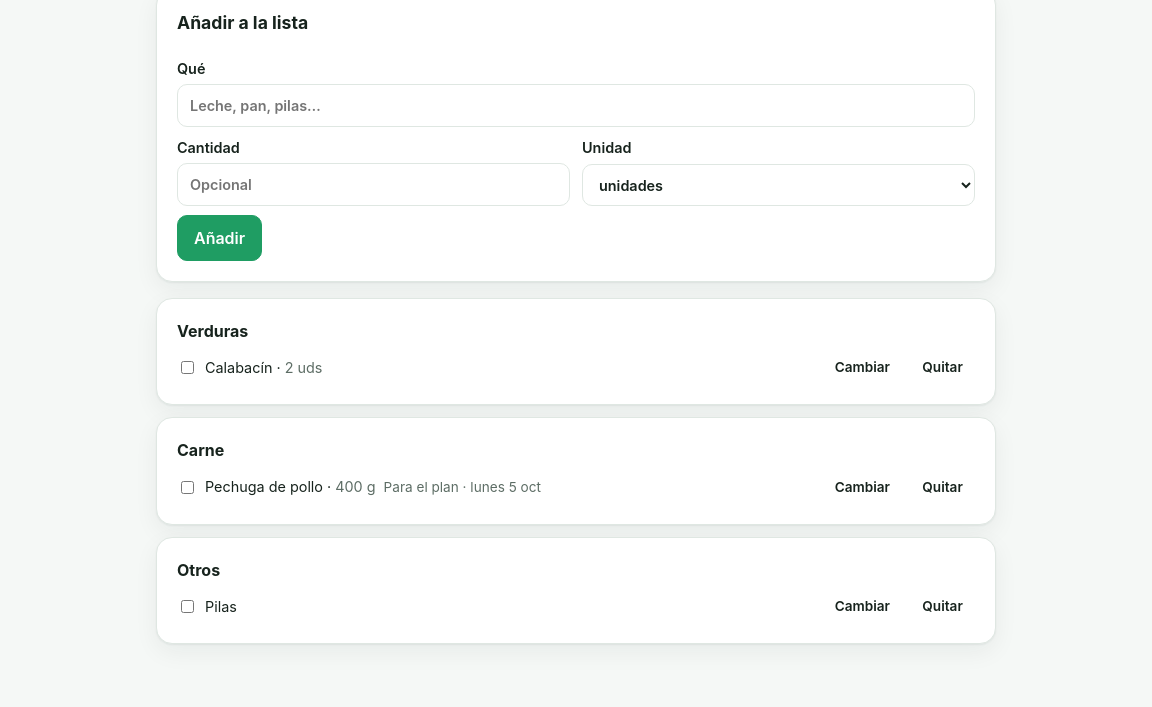
Test: shopping list › changes how much to buy
(page scrolled)
Click the button "Cambiar" in the row of "Pechuga de pollo" at coordinates (862, 487), box [822,470,902,504]
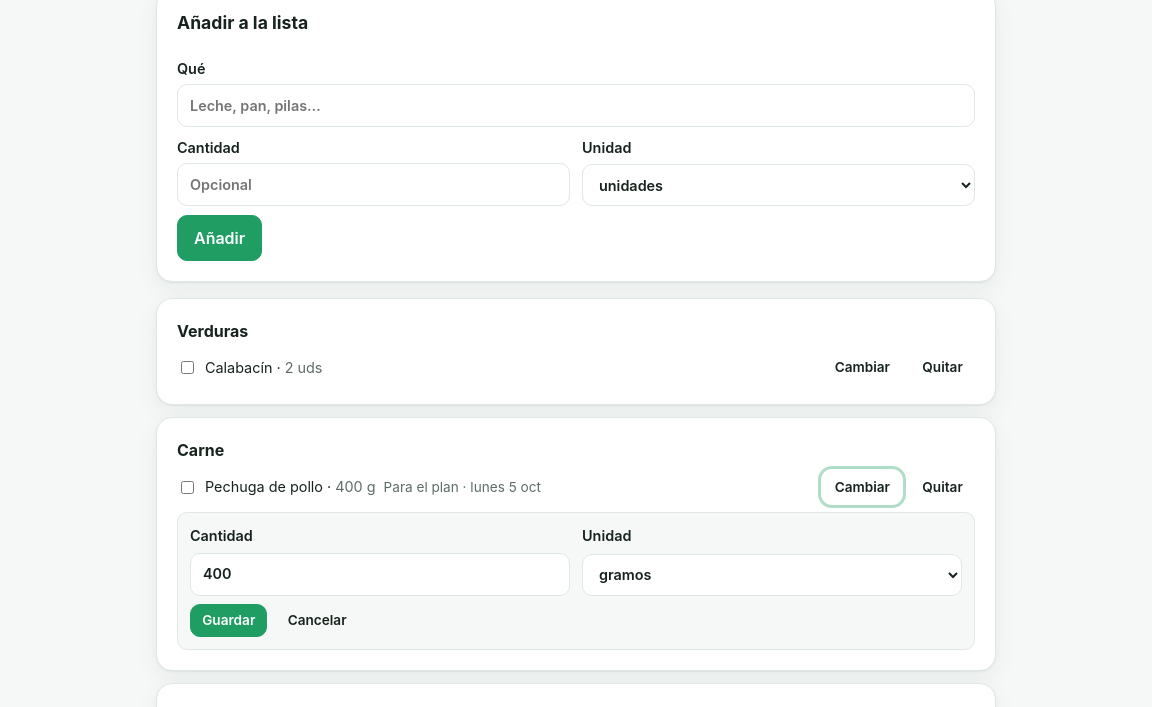
Replace the text in the field labelled "Cantidad" below "Pechuga de pollo" with "1" at coordinates (380, 574), box [190,553,570,596]
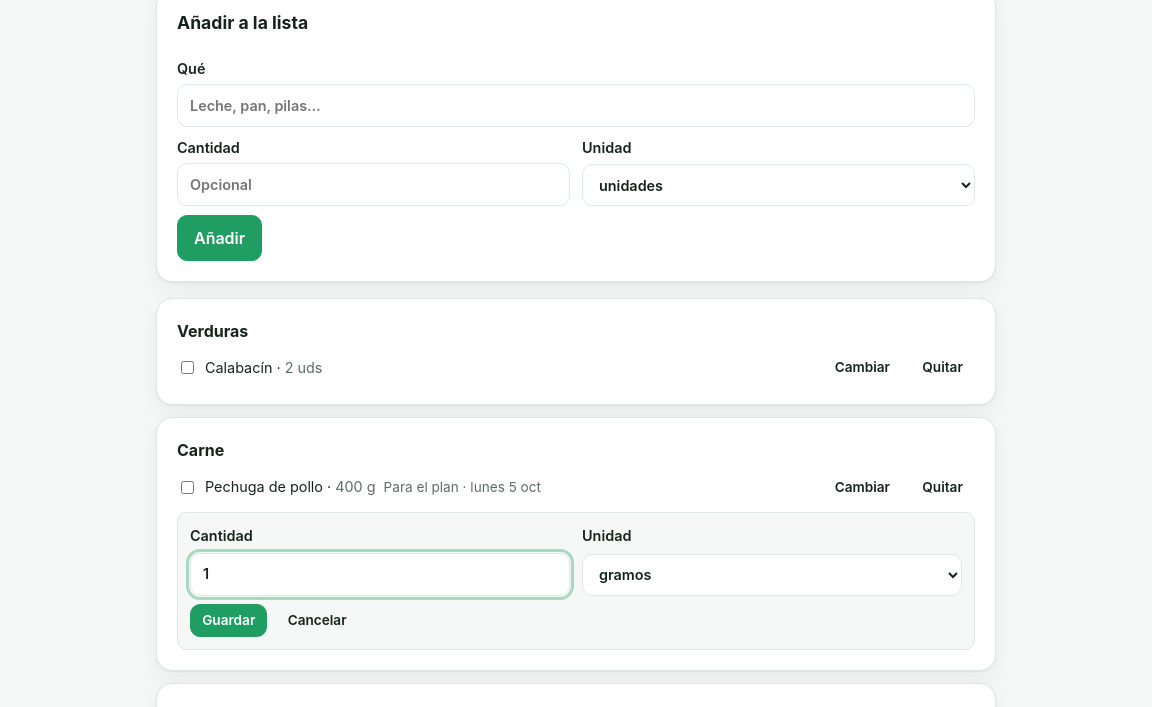
Select "kilogramos" in the dropdown labelled "Unidad" below "Pechuga de pollo" at coordinates (772, 575), box [582,554,962,596]
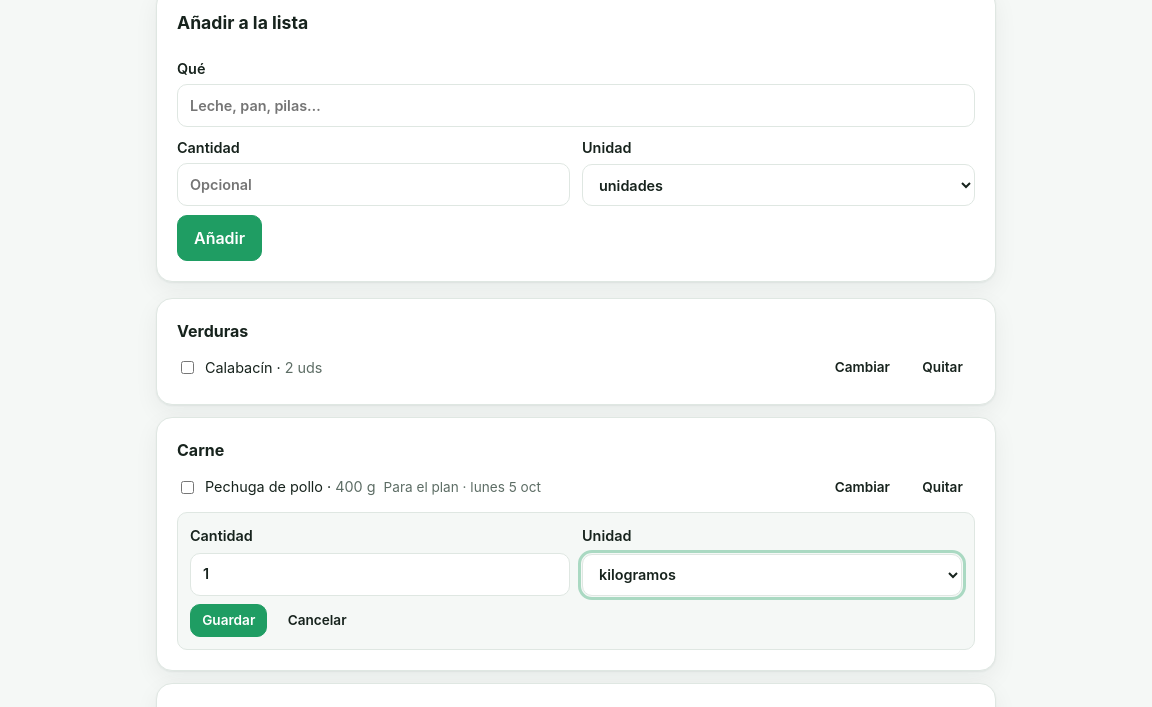
Click the button "Guardar" at coordinates (229, 620), box [190,604,268,637]
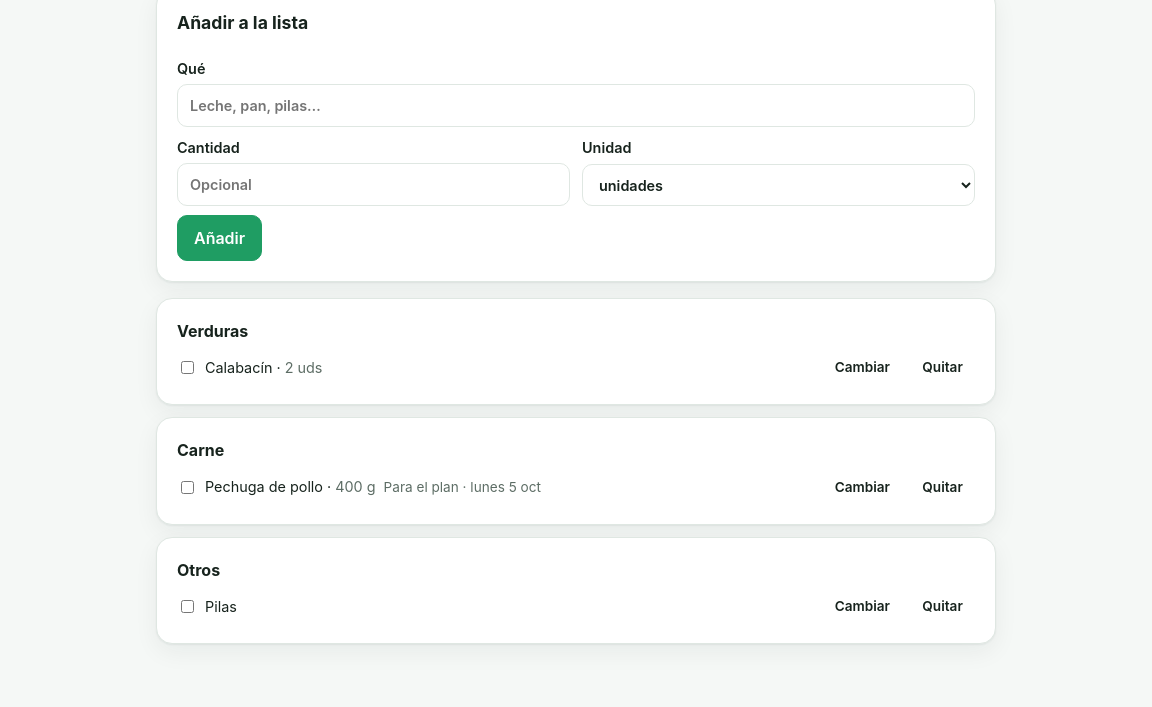
Check: the form "Cantidad Unidad Guardar Cancelar" is gone
